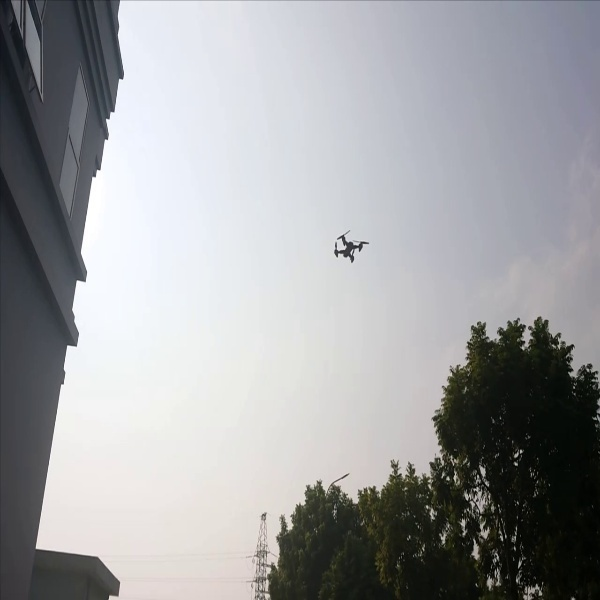drone: (329, 225, 373, 268)
